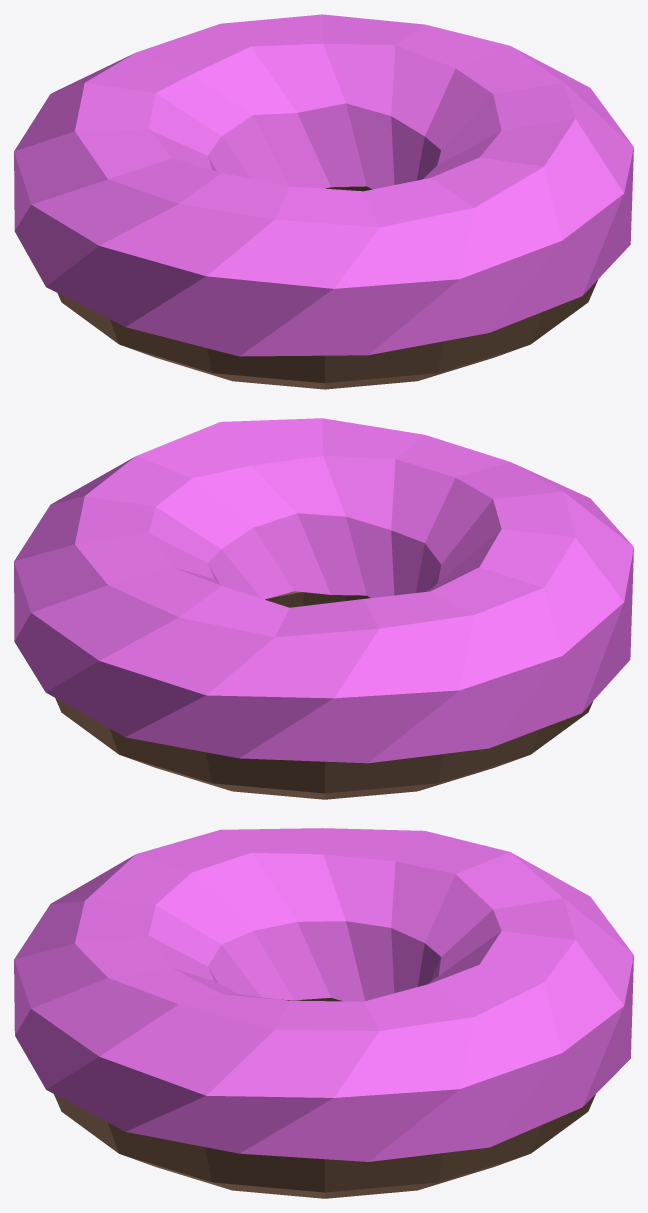
The model's file is Donut.fbx.
3 views of the same model, one above another, from view 1: azimuth 30°, elevation 25°; view 2: azimuth 150°, elevation 25°; view 3: azimuth 270°, elevation 25° (orthographic).
Visible parts, largest first — view 1: Torus_2, Torus_1; view 2: Torus_2, Torus_1; view 3: Torus_2, Torus_1.
Boxes of the visible parts, x1,y1,x2,y2 form: Torus_2: [14, 14, 633, 356]; Torus_1: [57, 186, 597, 389]; Torus_2: [14, 418, 633, 763]; Torus_1: [55, 591, 593, 799]; Torus_2: [14, 828, 633, 1161]; Torus_1: [54, 998, 595, 1198].
Size of the model in its own units: 322 by 106 by 321.
